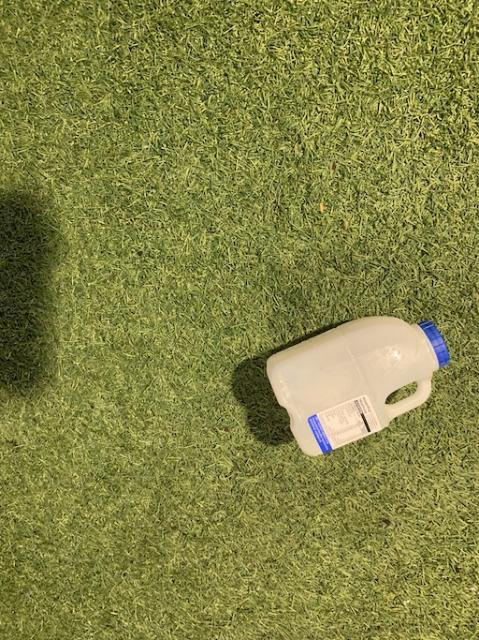plastic: (266, 316, 449, 454)
